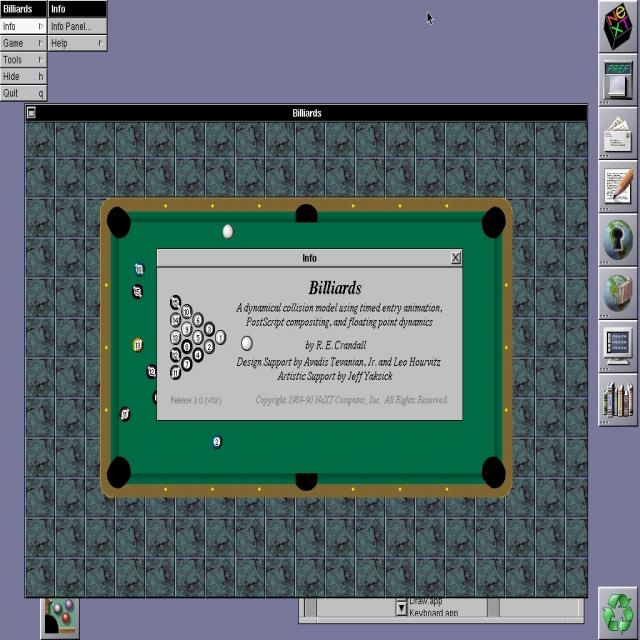Billiard table: (99, 198, 513, 500)
